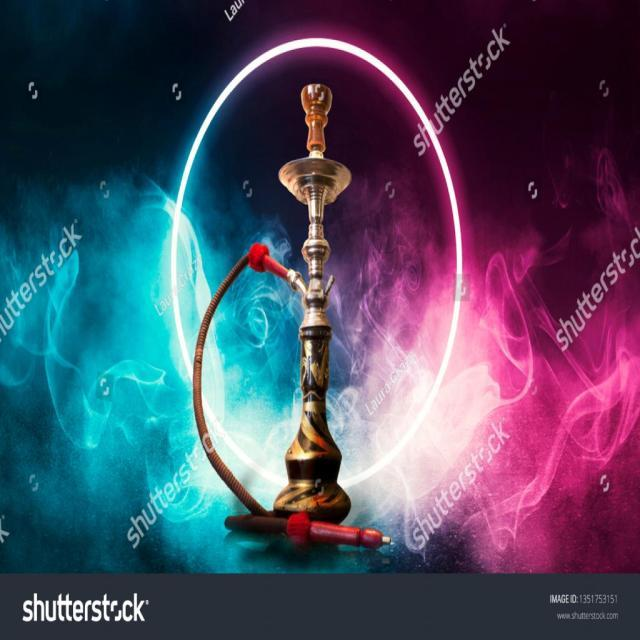smoking: (161, 79, 391, 566)
